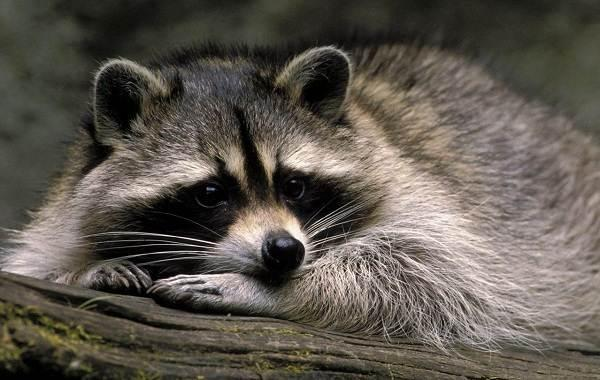raccoon: (0, 33, 600, 350)
